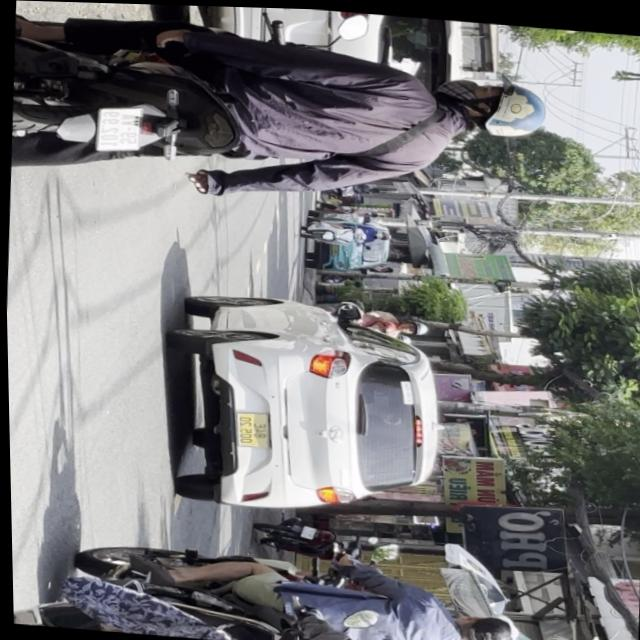helmet: (443, 73, 549, 138)
licenseplate: (7, 0, 562, 221), (37, 529, 523, 640), (10, 565, 531, 640)
motorcyclist: (447, 609, 516, 640)
nohelmet: (96, 105, 143, 152)
